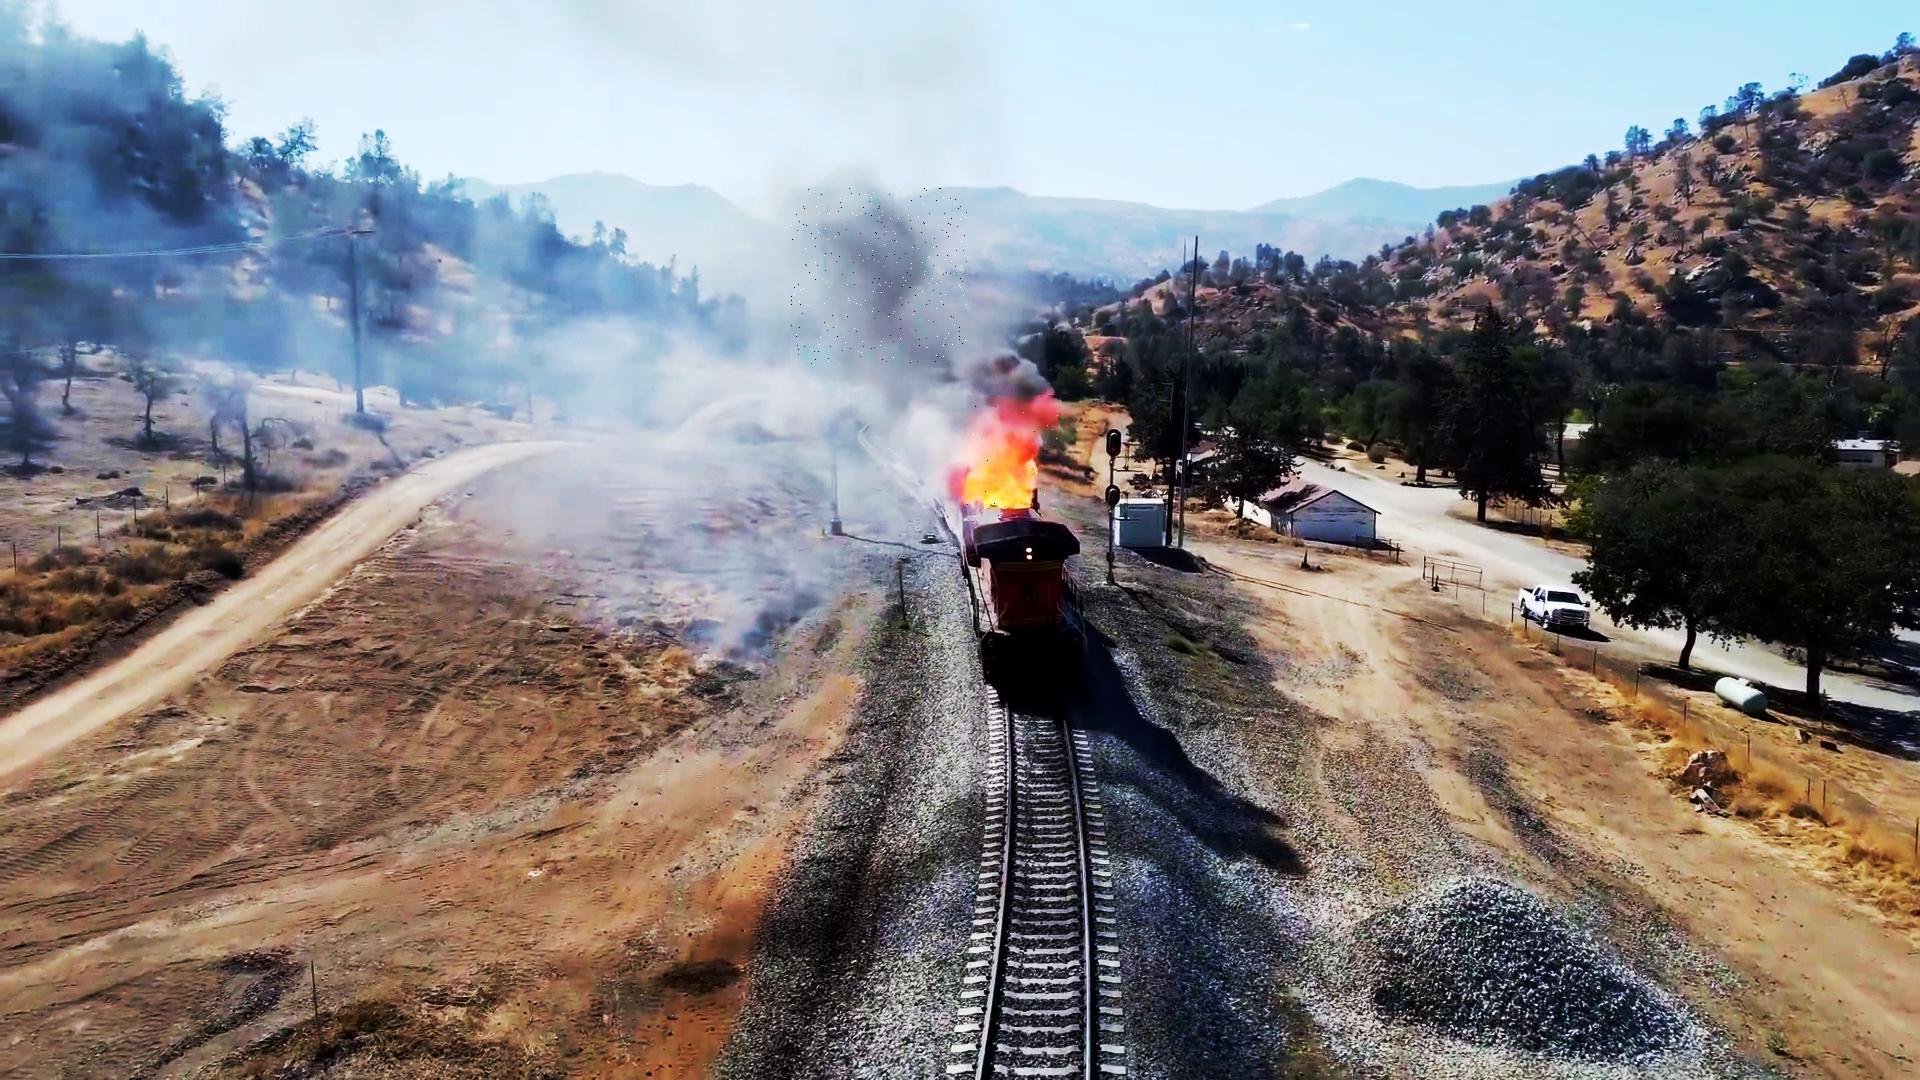fire: (968, 396, 1063, 521)
smoke: (790, 188, 967, 365)
